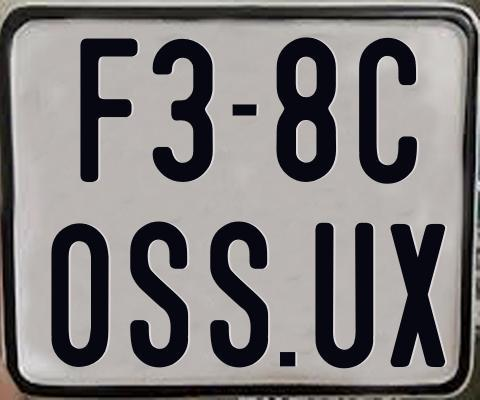0: (51, 223, 114, 368)
3: (149, 39, 216, 188)
8: (275, 37, 338, 186)
C: (356, 36, 417, 187)
F: (80, 36, 138, 185)
S: (209, 220, 273, 369), (128, 219, 188, 369)
U: (312, 223, 375, 368)
X: (390, 222, 448, 370)
